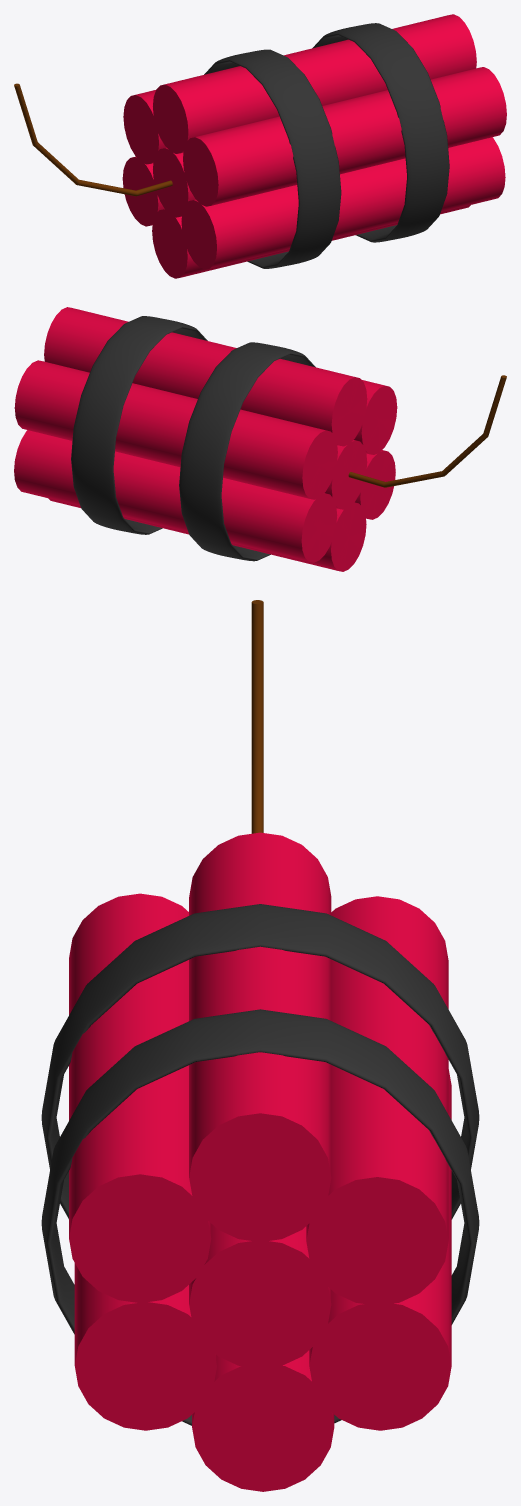
The model's file is Dynamite.fbx.
3 views of the same model, one above another, from view 1: azimuth 30°, elevation 25°; view 2: azimuth 150°, elevation 25°; view 3: azimuth 270°, elevation 25° (orthographic). The views are drawn at different scales.
Visible parts, largest first — view 1: pCylinder10; view 2: pCylinder10; view 3: pCylinder10.
Boxes of the visible parts, left/top/right/bottom form: pCylinder10: left=14, top=14, right=506, bottom=278; pCylinder10: left=14, top=307, right=506, bottom=571; pCylinder10: left=41, top=600, right=479, bottom=1491.
Size of the model in its own units: 14.42 by 7.29 by 6.15.
